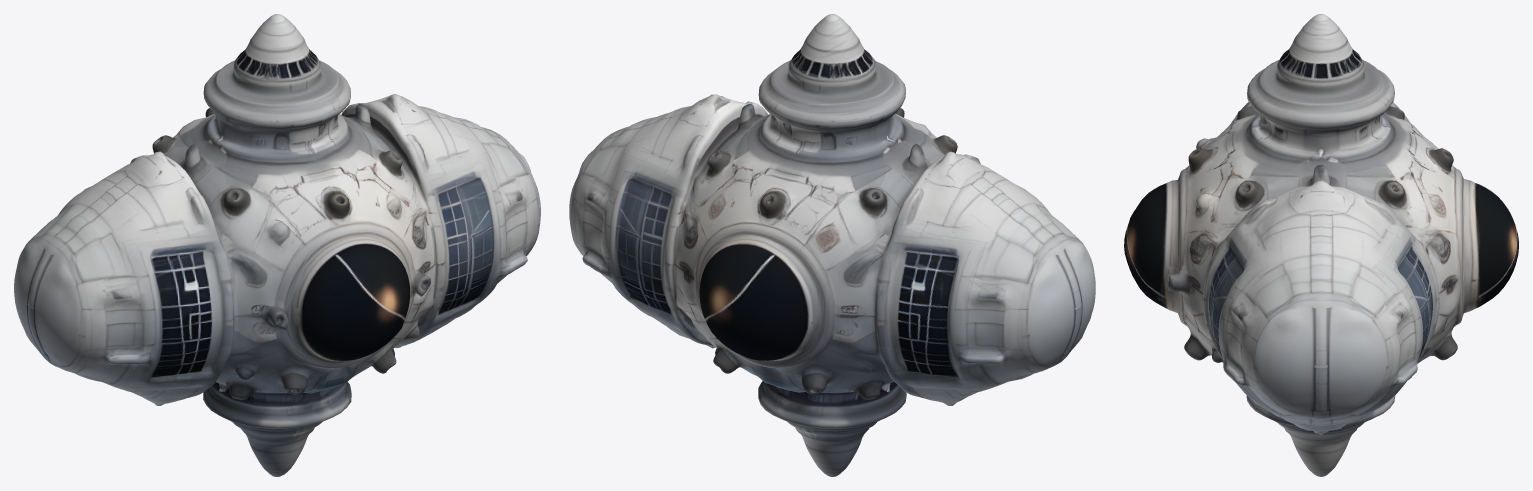
File: nave13d.fbx
The picture shows the model from 3 angles, left to right: view 1: azimuth 30°, elevation 25°; view 2: azimuth 150°, elevation 25°; view 3: azimuth 270°, elevation 25°; orthographic projection.
Parts seen in each view (by area): view 1: model; view 2: model; view 3: model.
Boxes of the visible parts, bbox=[...] form: model: bbox=[14, 14, 540, 476]; model: bbox=[569, 14, 1095, 476]; model: bbox=[1124, 14, 1518, 476].
Bounding box in the file's own units: 190 × 169 × 131.
